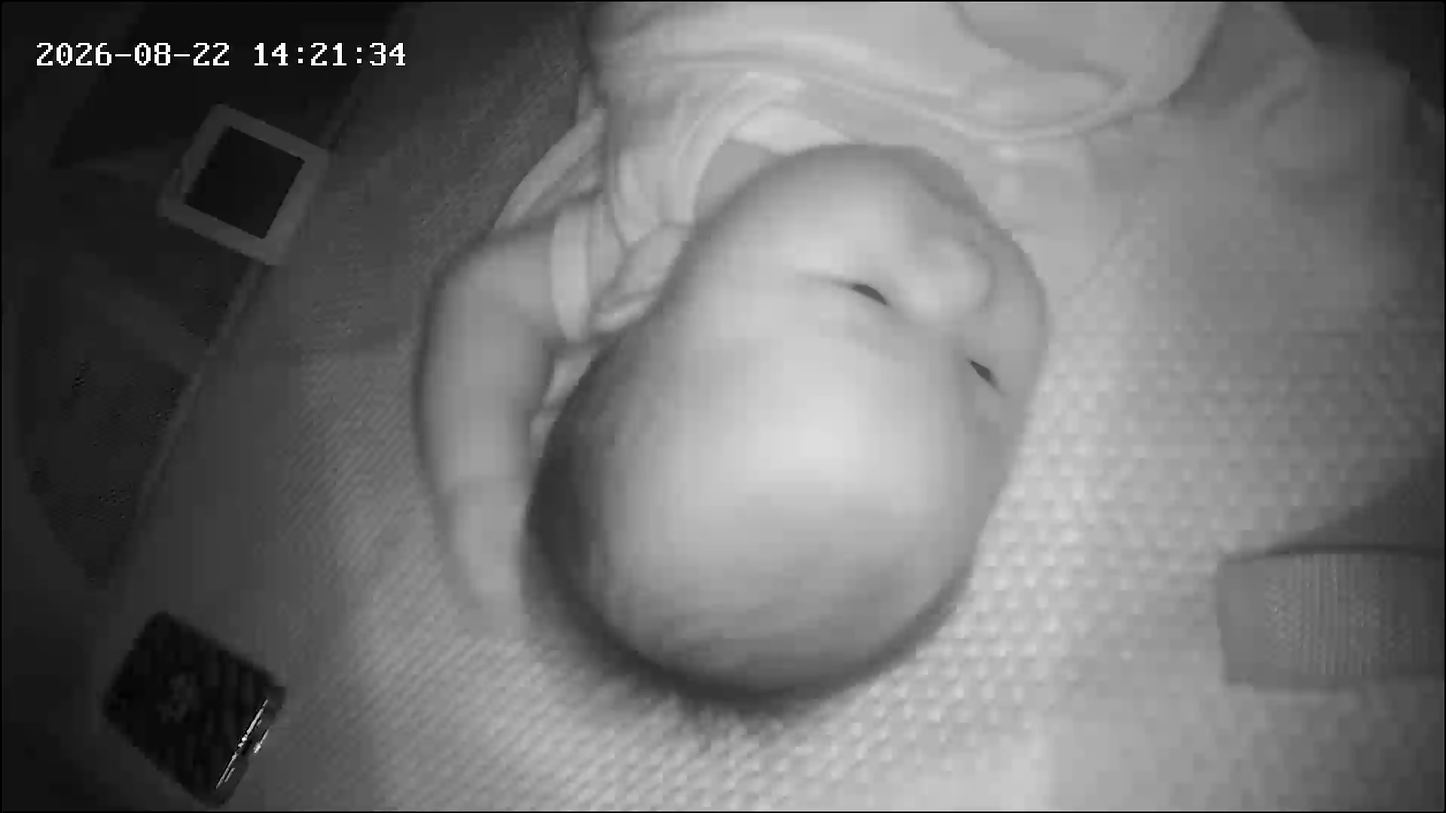baby: (487, 2, 1173, 734)
baby_face: (528, 144, 1054, 716)
